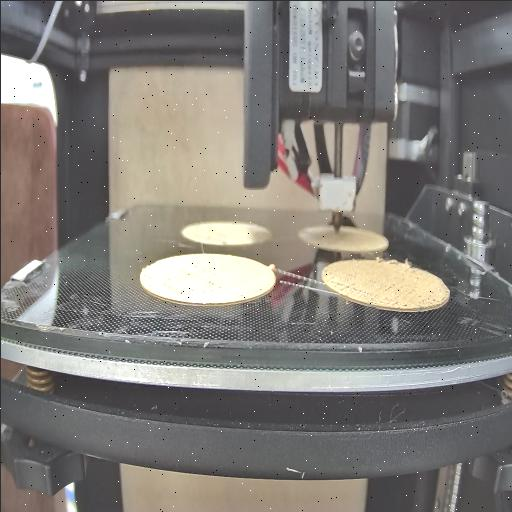under_extrusion: (160, 266, 220, 296), (376, 277, 434, 308), (236, 282, 264, 302), (332, 280, 364, 296)
